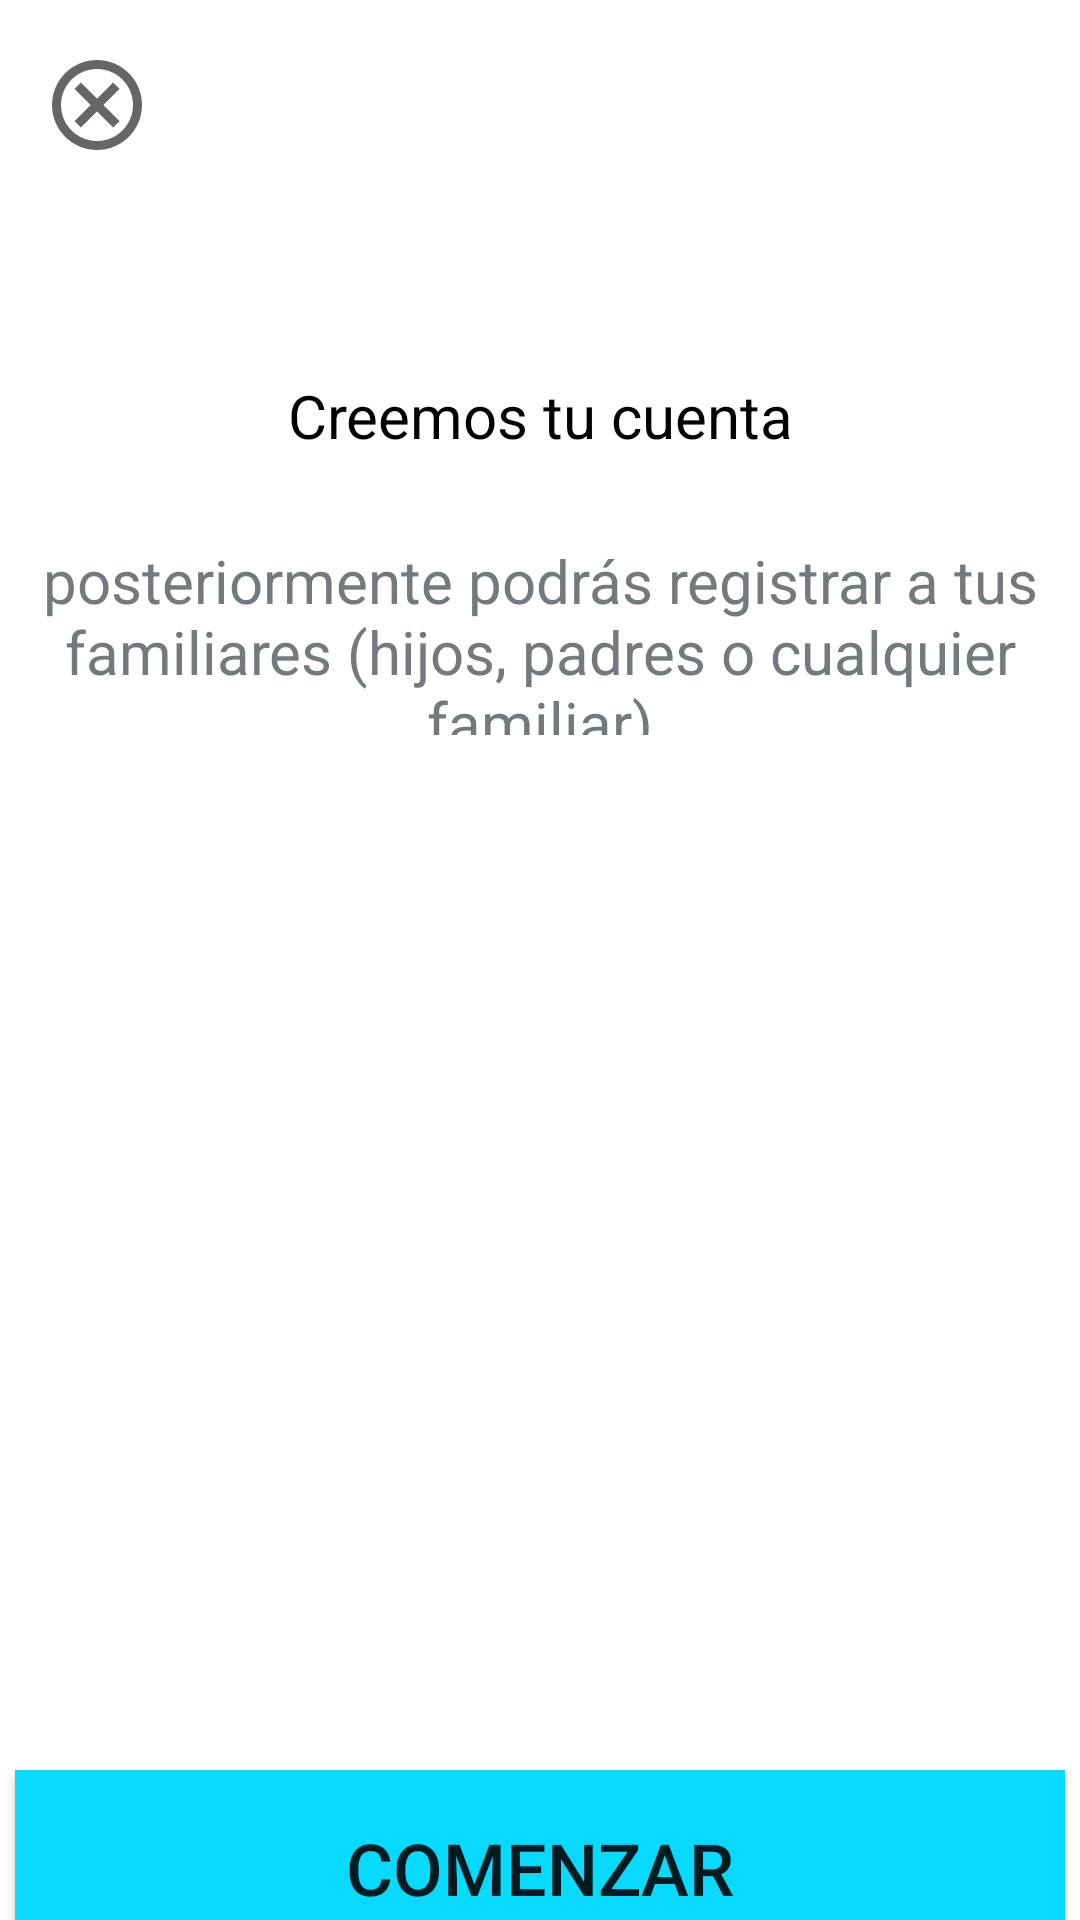

Icons on this 1080×1920 Android screen, each with the point to tap as point (x, y):
Cancelar: point (97, 105)
